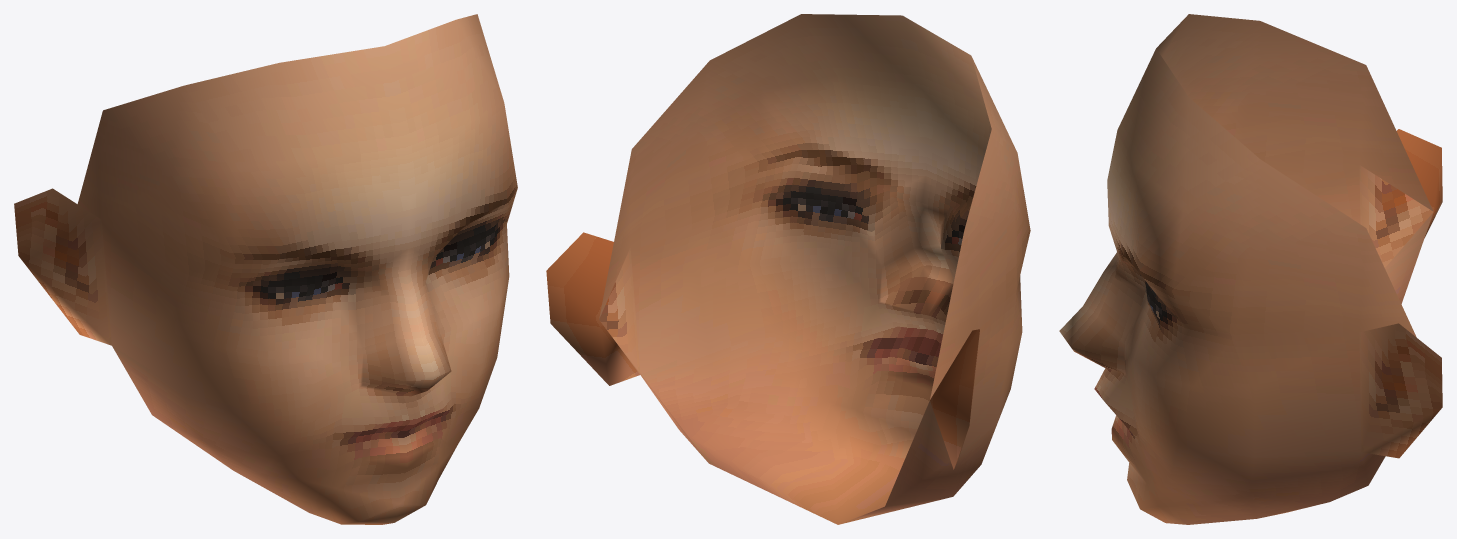
3 views of the same model, side by side, from view 1: azimuth 30°, elevation 25°; view 2: azimuth 150°, elevation 25°; view 3: azimuth 270°, elevation 25° (orthographic). The views are drawn at different scales.
Parts seen in each view (by area): view 1: editpl_f-0000-1852, editpl_f-0000-1851; view 2: editpl_f-0000-1852, editpl_f-0000-1851; view 3: editpl_f-0000-1852, editpl_f-0000-1851.
Boxes of the visible parts, x1=… form: editpl_f-0000-1852: x1=14, y1=14, x2=517, y2=413; editpl_f-0000-1851: x1=101, y1=220, x2=509, y2=524; editpl_f-0000-1852: x1=546, y1=14, x2=1030, y2=469; editpl_f-0000-1851: x1=605, y1=247, x2=1022, y2=524; editpl_f-0000-1852: x1=1059, y1=14, x2=1442, y2=458; editpl_f-0000-1851: x1=1071, y1=165, x2=1433, y2=524.
Size of the model in its own units: 19.4 by 20.01 by 14.97.
